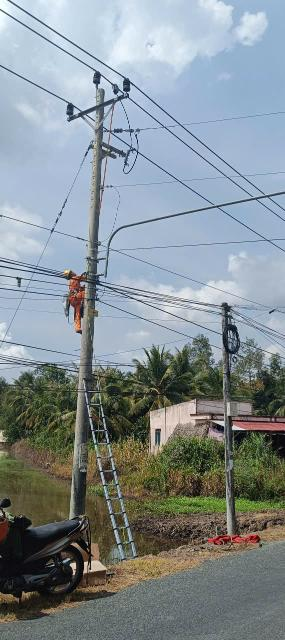harness: (65, 287, 88, 295)
helmet: (61, 269, 74, 280)
shoes: (73, 329, 85, 334)
